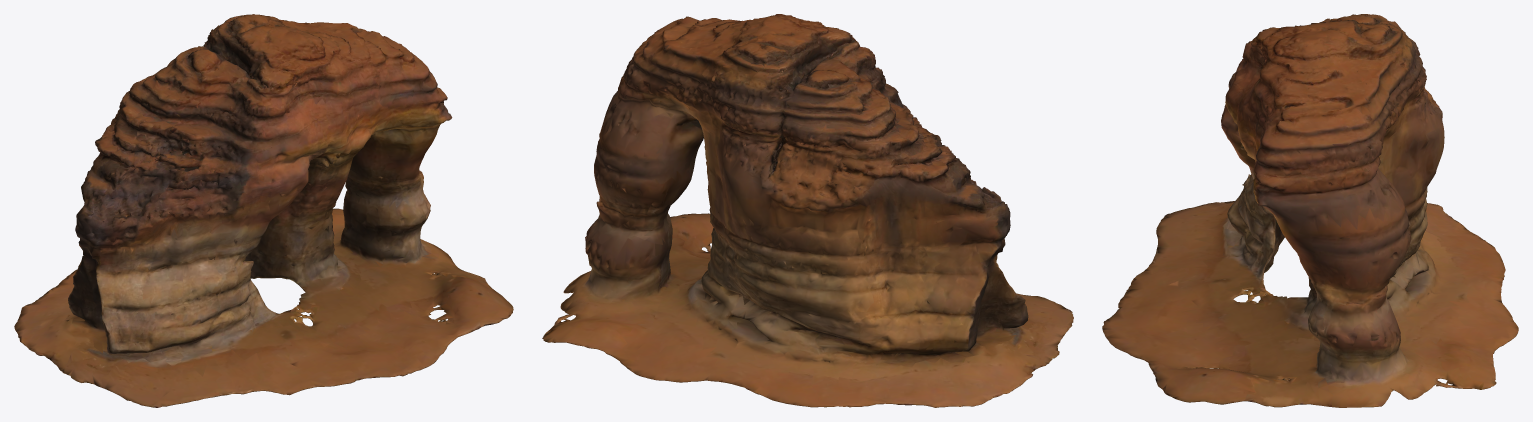
The model's file is Elephant_Rock_Formati.glb.
The picture shows the model from 3 angles, left to right: view 1: azimuth 30°, elevation 25°; view 2: azimuth 150°, elevation 25°; view 3: azimuth 270°, elevation 25°; orthographic projection. The views are drawn at different scales.
Visible parts, largest first — view 1: Elephant_Rock_Formati; view 2: Elephant_Rock_Formati; view 3: Elephant_Rock_Formati.
Part boxes in pixels (<box>): Elephant_Rock_Formati: <box>14,14,513,407</box>; Elephant_Rock_Formati: <box>542,14,1073,407</box>; Elephant_Rock_Formati: <box>1102,14,1518,407</box>.
Bounding box in the file's own units: 1.9 × 1.2 × 1.55.
Materials: 1 (1 with a texture image).
